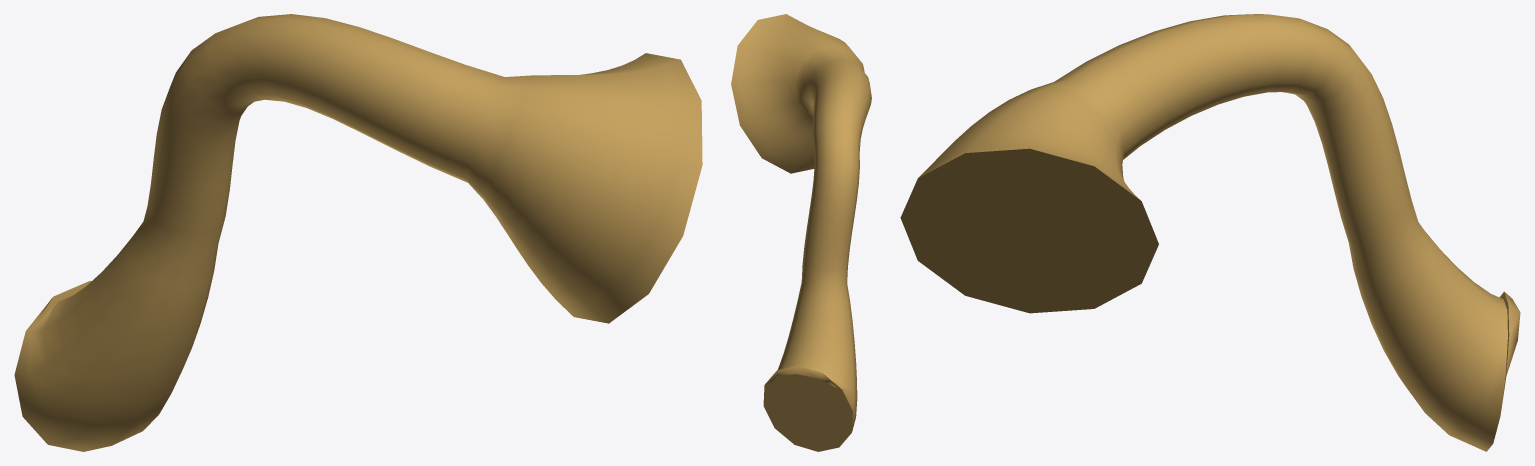
3 views of the same model, side by side, from view 1: azimuth 30°, elevation 25°; view 2: azimuth 150°, elevation 25°; view 3: azimuth 270°, elevation 25° (orthographic). The views are drawn at different scales.
Parts seen in each view (by area): view 1: 左侧前交叉韧带; view 2: 左侧前交叉韧带; view 3: 左侧前交叉韧带.
Part boxes in pixels (x1,y1,x2,y2): 左侧前交叉韧带: (14,14,702,451); 左侧前交叉韧带: (731,14,871,451); 左侧前交叉韧带: (900,14,1520,451).
Size of the model in its own units: 0.0312 by 0.0362 by 0.0438.
